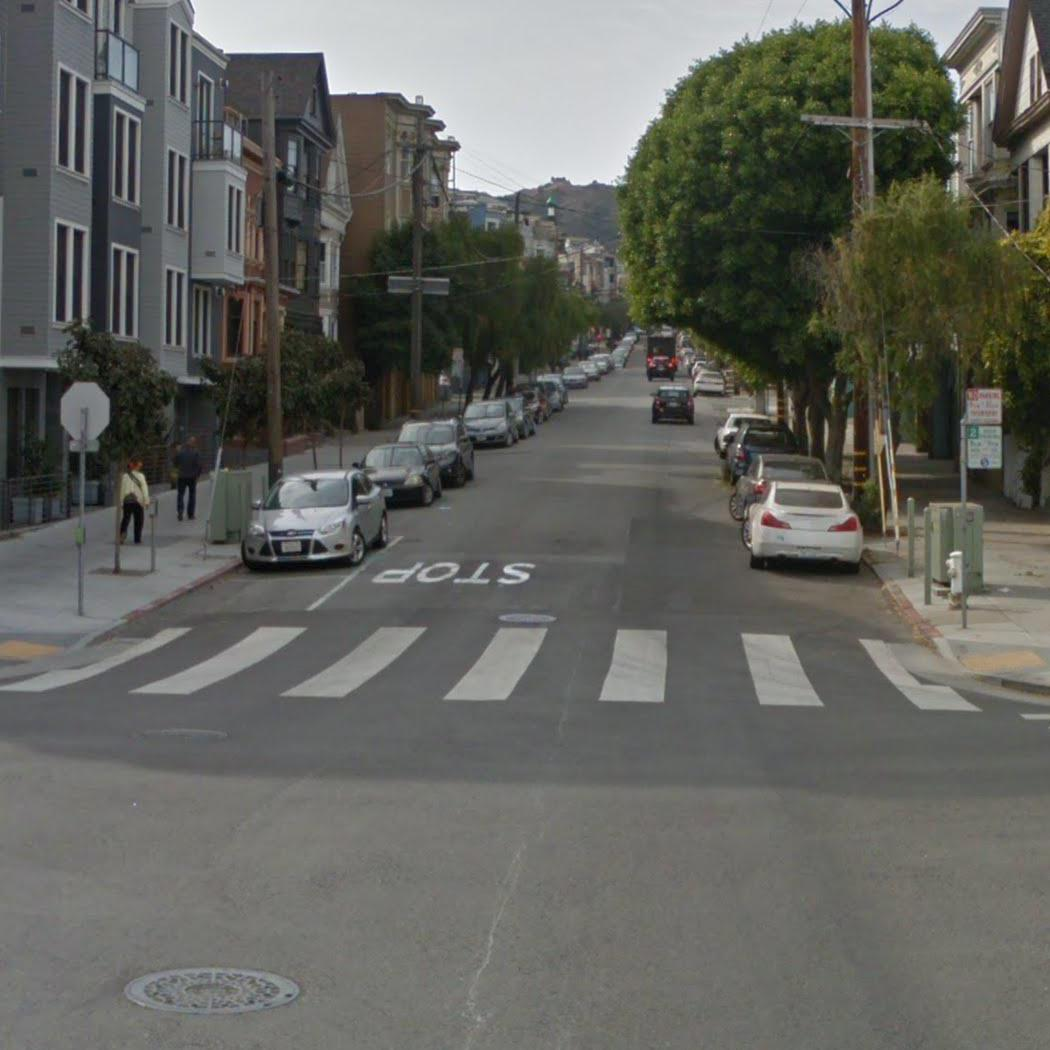2 Hour Parking: (964, 424, 1004, 471)
No Parking: (963, 387, 1003, 427)
